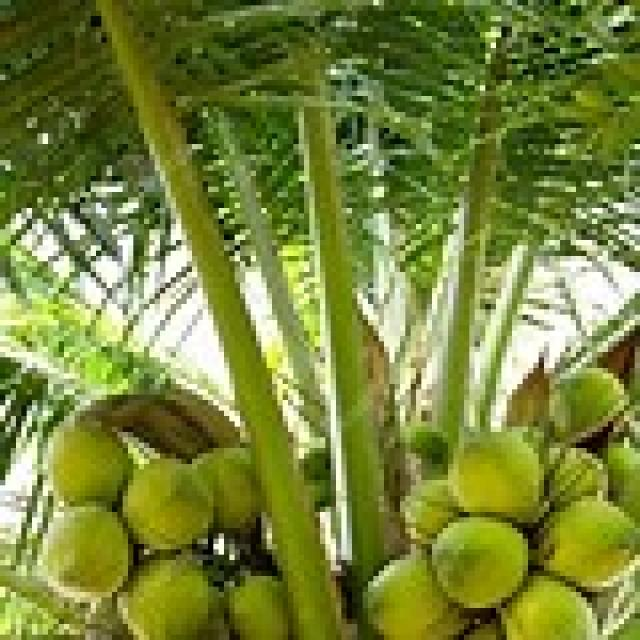coconuts: (368, 433, 636, 640), (27, 416, 248, 640)
